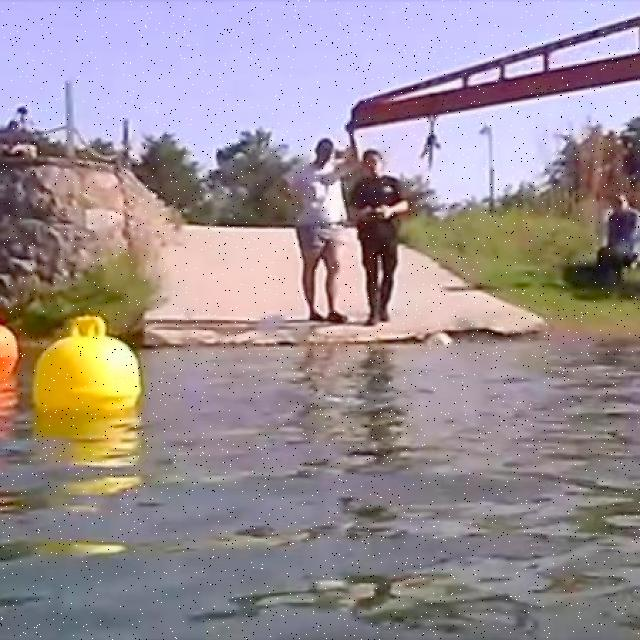buoy: (32, 314, 142, 414), (0, 322, 18, 377)
